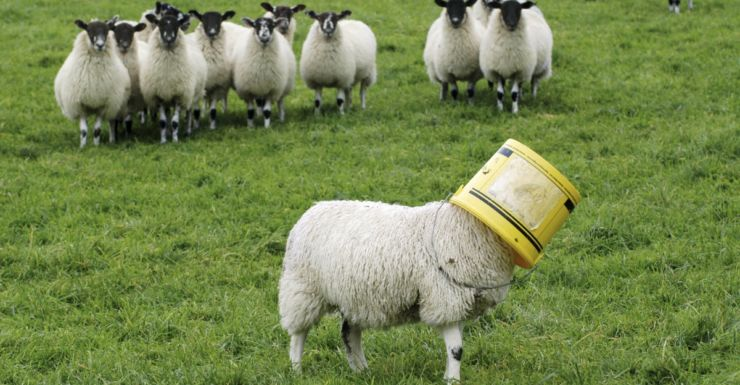sheep: (271, 155, 554, 373), (301, 1, 385, 121), (482, 1, 566, 104), (192, 5, 265, 122), (60, 21, 132, 138), (144, 17, 217, 132), (101, 11, 182, 105), (239, 20, 304, 130), (424, 1, 488, 111)
